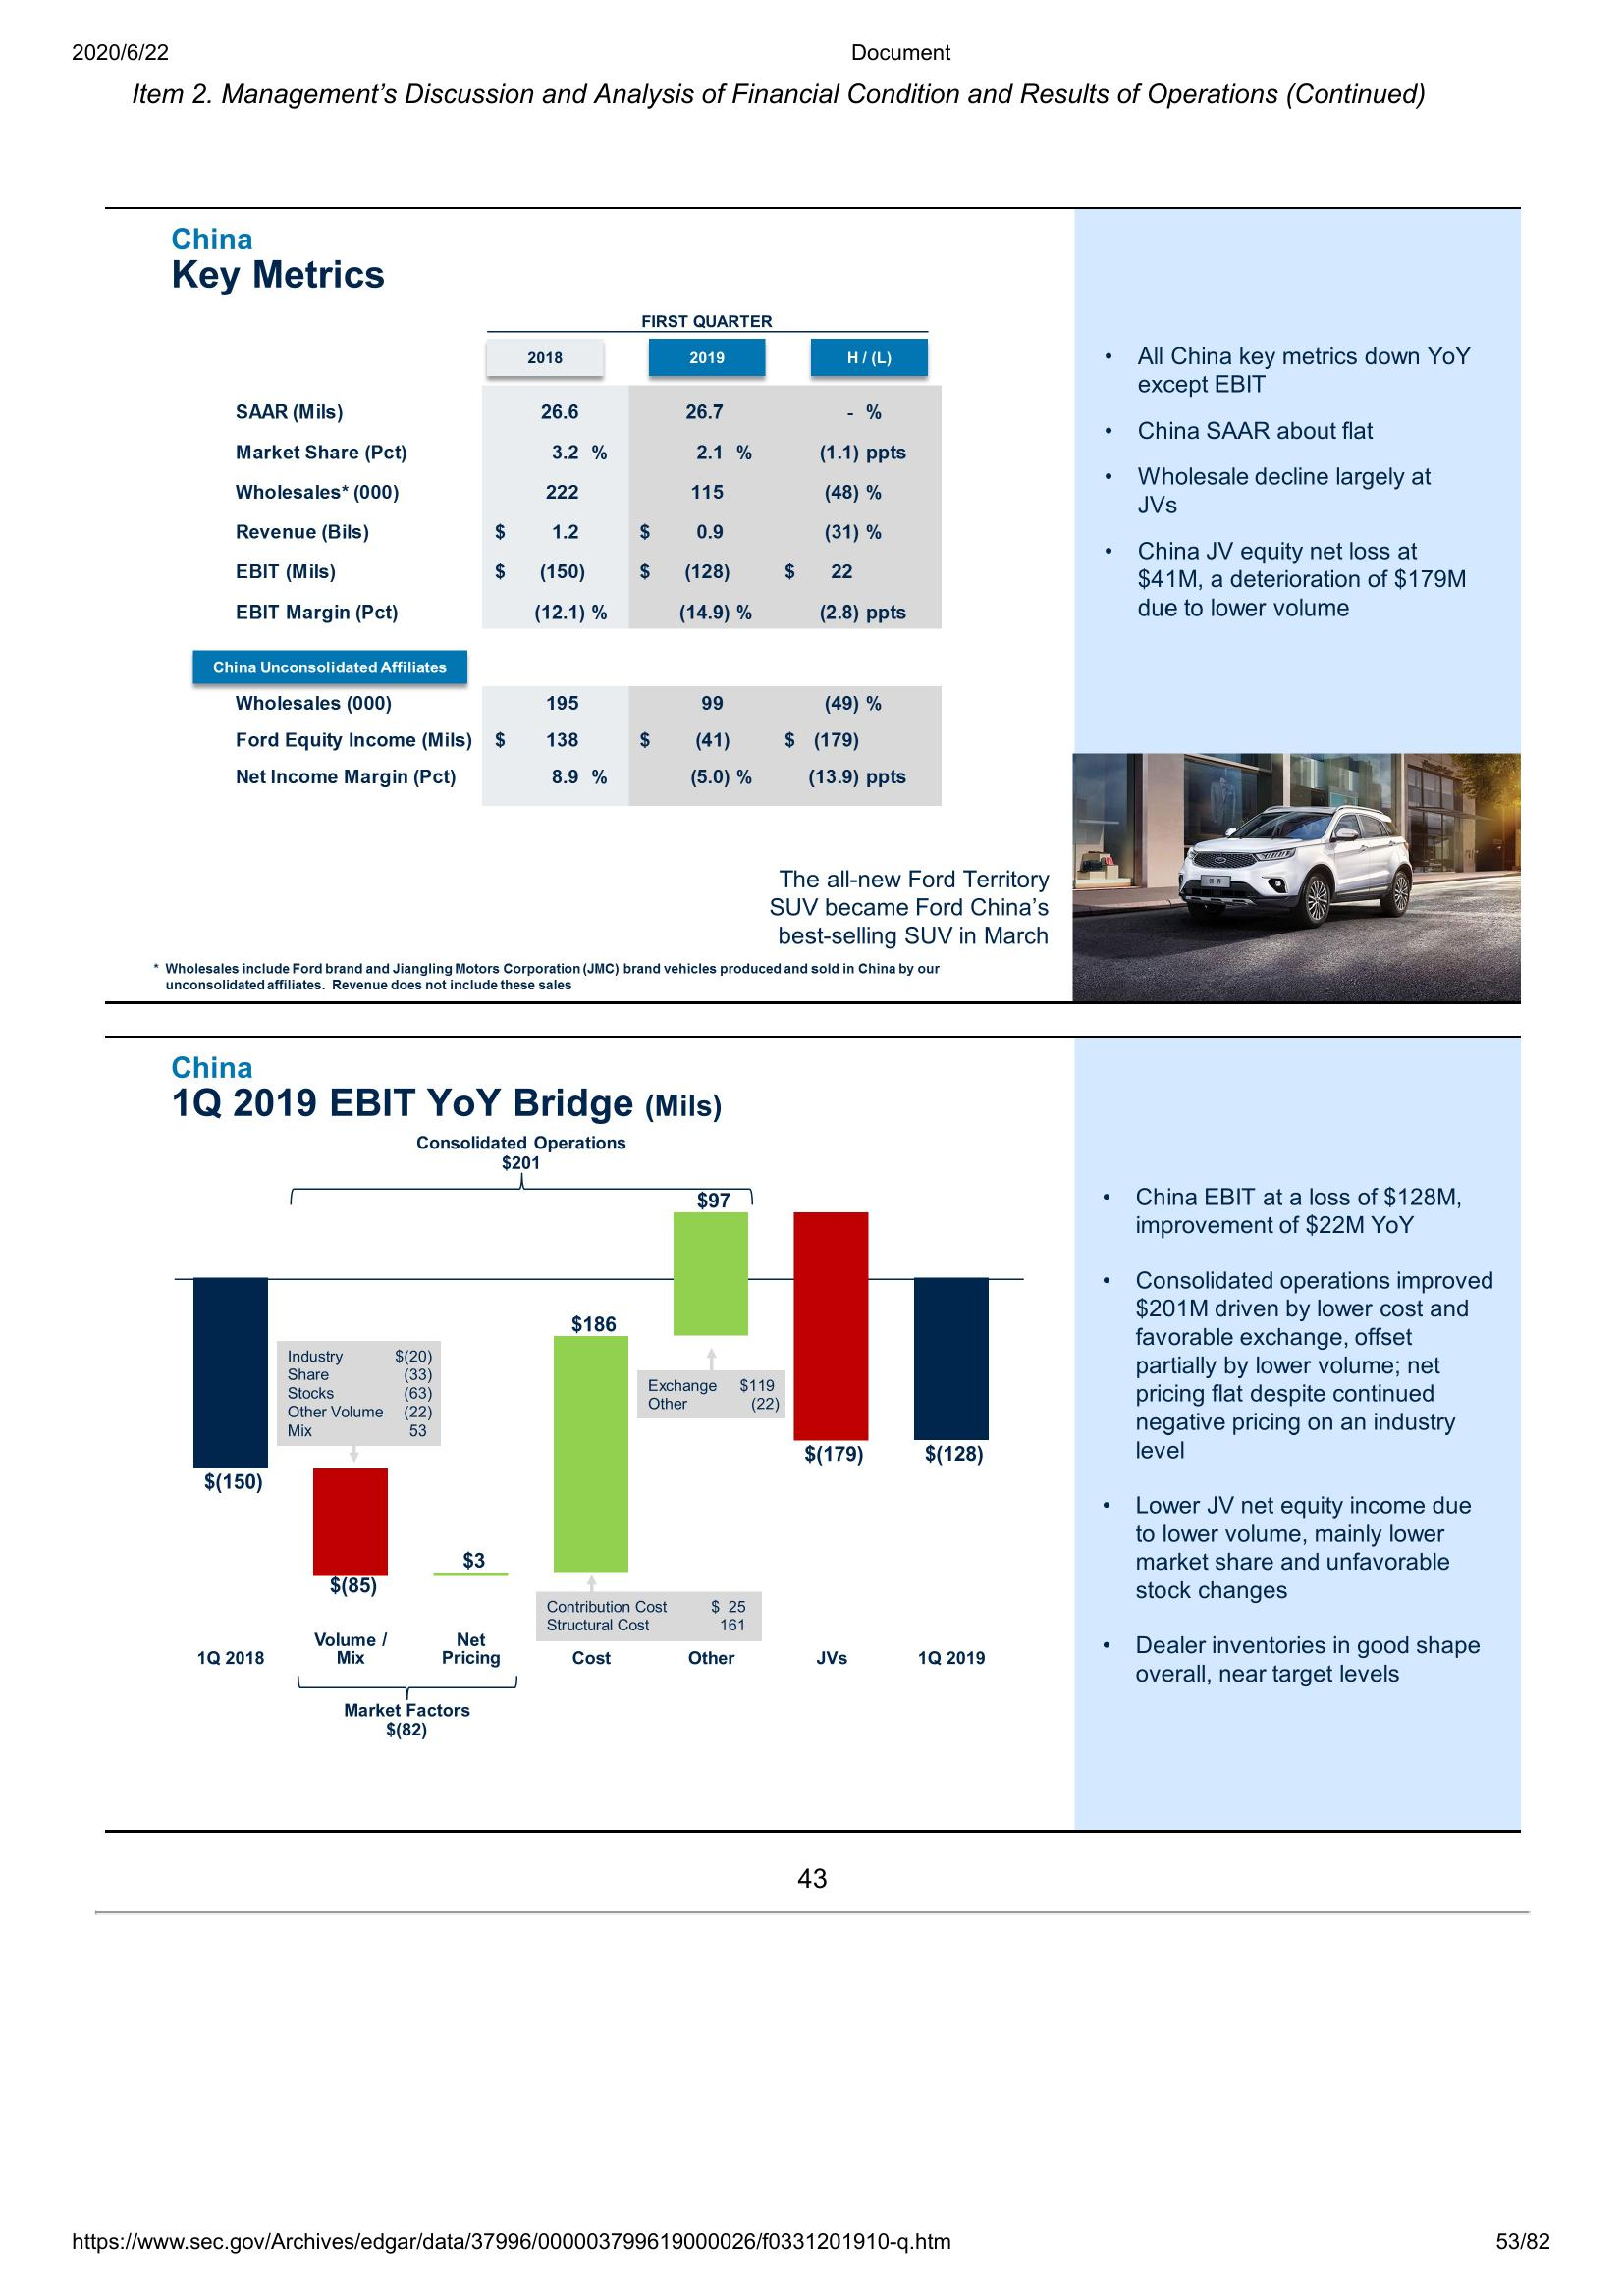table: (186, 300, 941, 807)
